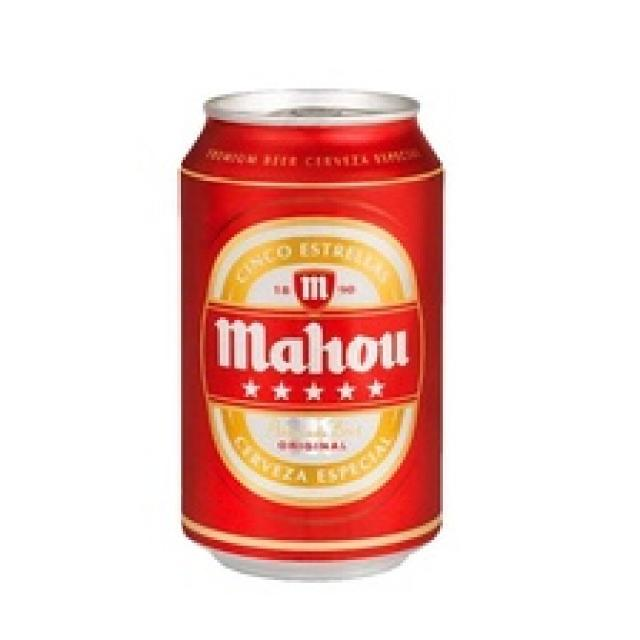recyclable: (178, 87, 442, 580)
